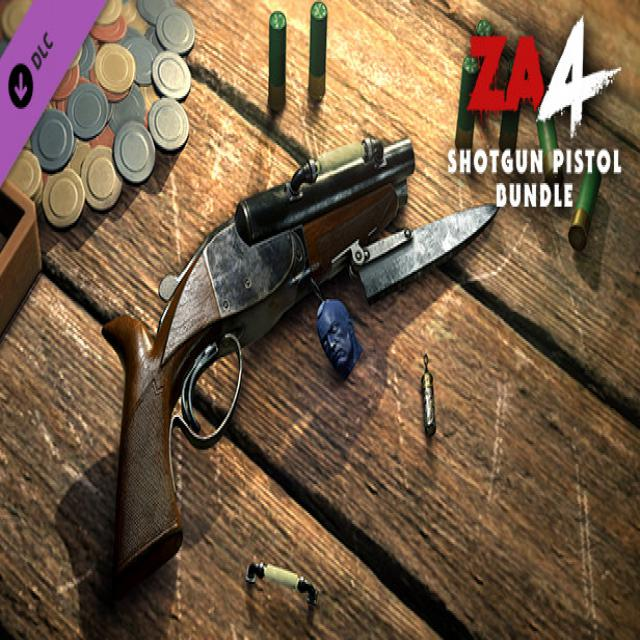long weapon: (55, 73, 547, 622)
